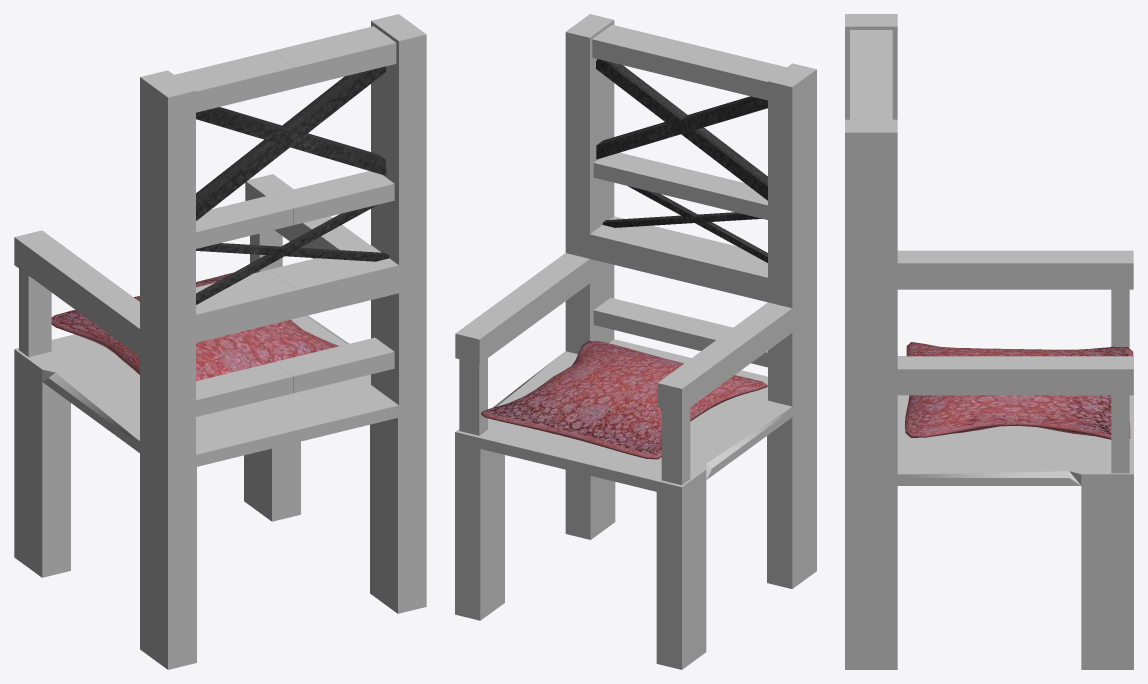
The model's file is Chair Textured.FBX.
The picture shows the model from 3 angles, left to right: view 1: azimuth 30°, elevation 25°; view 2: azimuth 150°, elevation 25°; view 3: azimuth 270°, elevation 25°; orthographic projection. The views are drawn at different scales.
Visible parts, largest first — view 1: Box001, Chair X001, Cushion; view 2: Box001, Cushion, Chair X001; view 3: Box001, Cushion.
Boxes of the visible parts, left/top/right/bottom form: Box001: left=14, top=14, right=426, bottom=669; Chair X001: left=196, top=66, right=389, bottom=304; Cushion: left=51, top=272, right=339, bottom=380; Box001: left=455, top=14, right=816, bottom=669; Cushion: left=481, top=341, right=767, bottom=459; Chair X001: left=596, top=59, right=767, bottom=262; Box001: left=845, top=14, right=1133, bottom=669; Cushion: left=905, top=342, right=1133, bottom=439.
Size of the model in its own units: 46.21 by 47.6 by 97.72.
